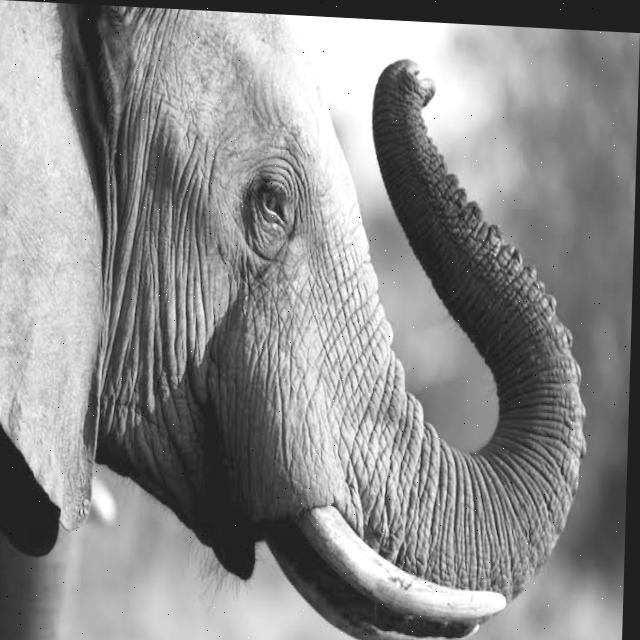Elephant: (0, 0, 599, 640)
